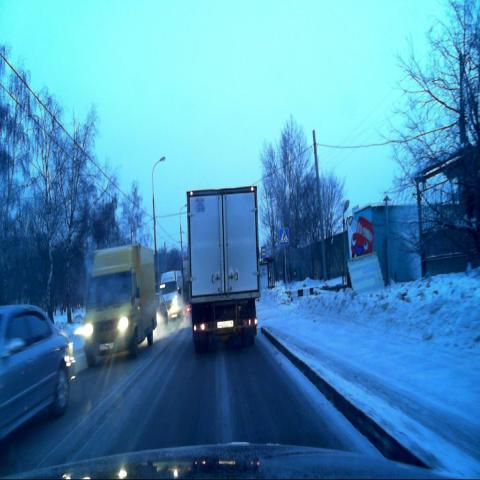5_19_1: (279, 227, 290, 246)
